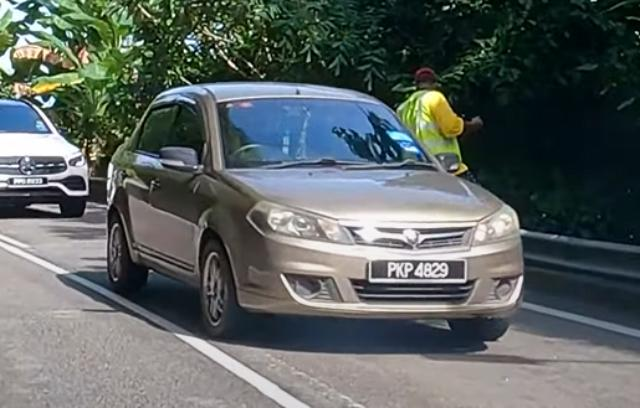License_Plate: (372, 261, 466, 284)
car: (106, 81, 527, 343), (1, 97, 91, 220)
